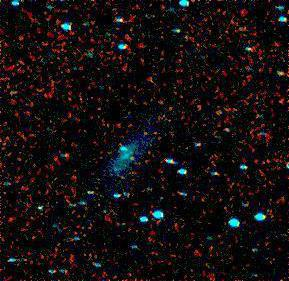star: (119, 146, 149, 176)
